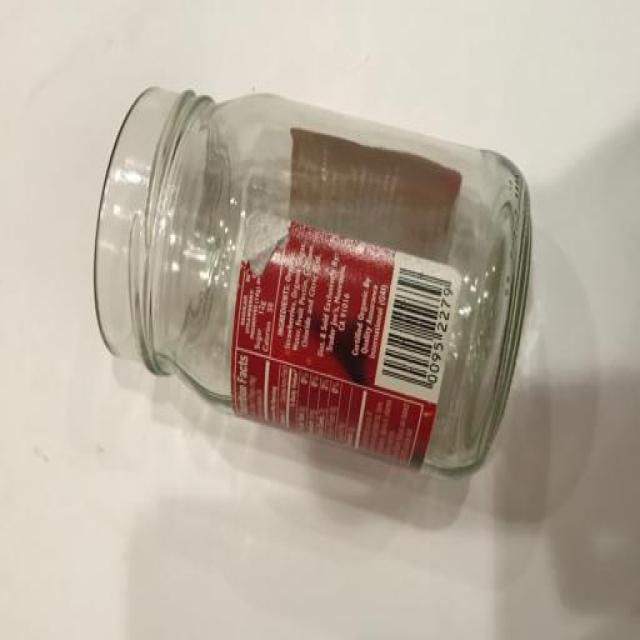inorganic: (91, 87, 531, 488)
